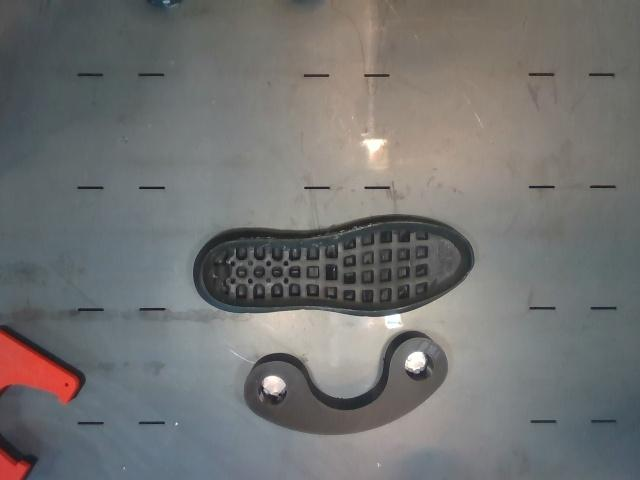shoes: (202, 221, 471, 311)
